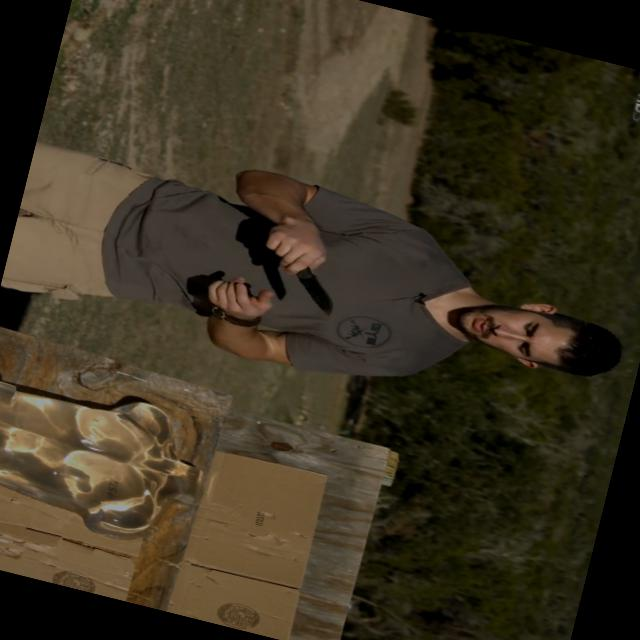knife: (248, 220, 360, 324)
